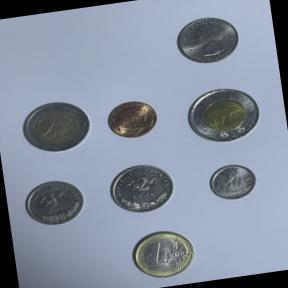coin: (178, 78, 268, 150), (12, 95, 96, 159), (102, 156, 178, 219), (168, 10, 244, 71), (124, 224, 199, 284), (102, 94, 163, 142), (203, 159, 262, 204)
